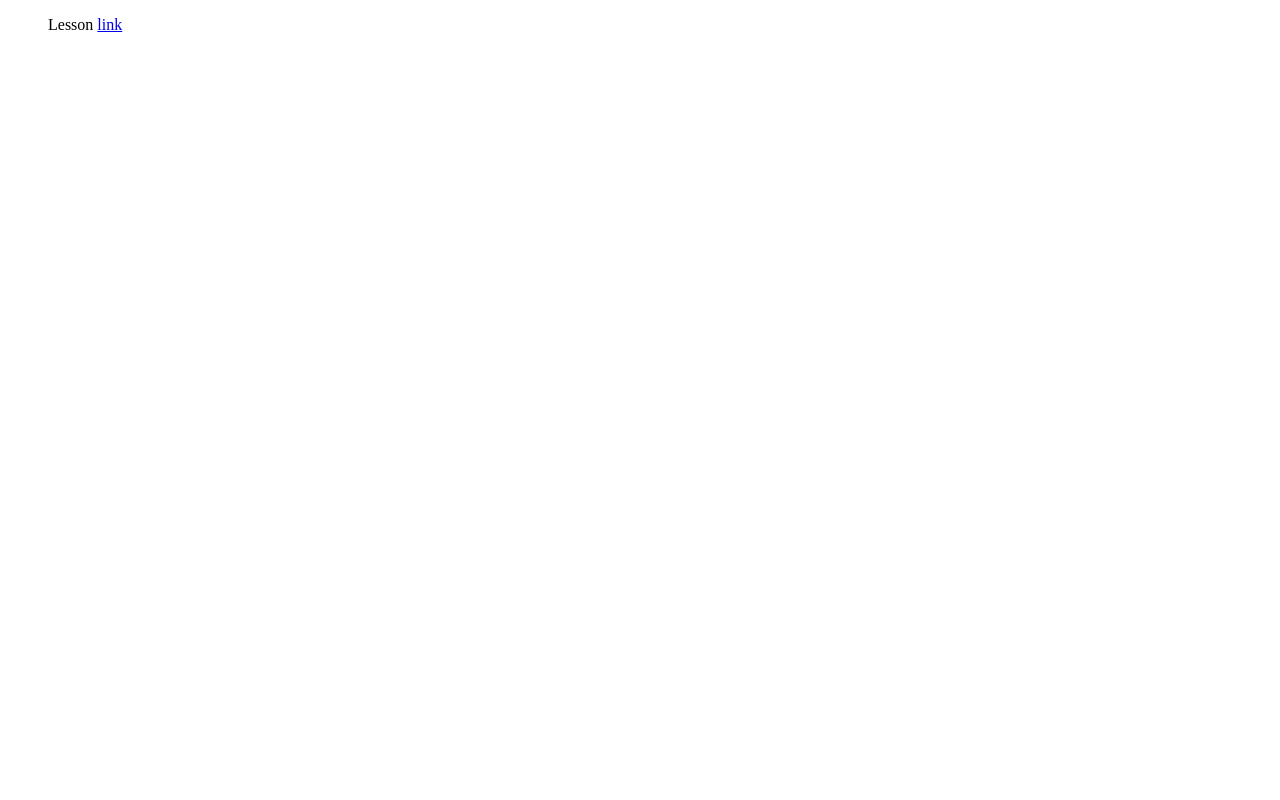
Test: student: shows stored opinion, rates, validates the choice
Click the link "link": (110, 24) [97, 16, 122, 33]
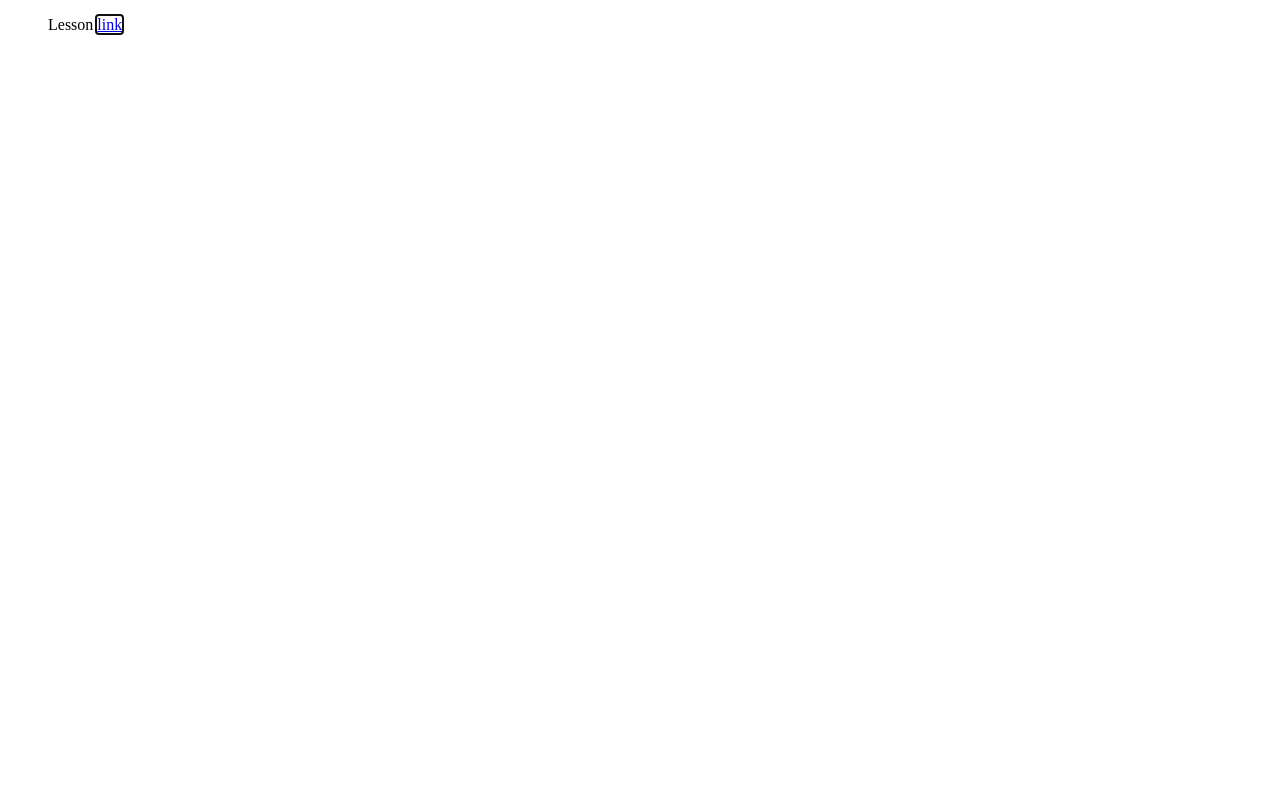
Click the element with id "content_id__5": (640, 25) [48, 16, 1232, 34]
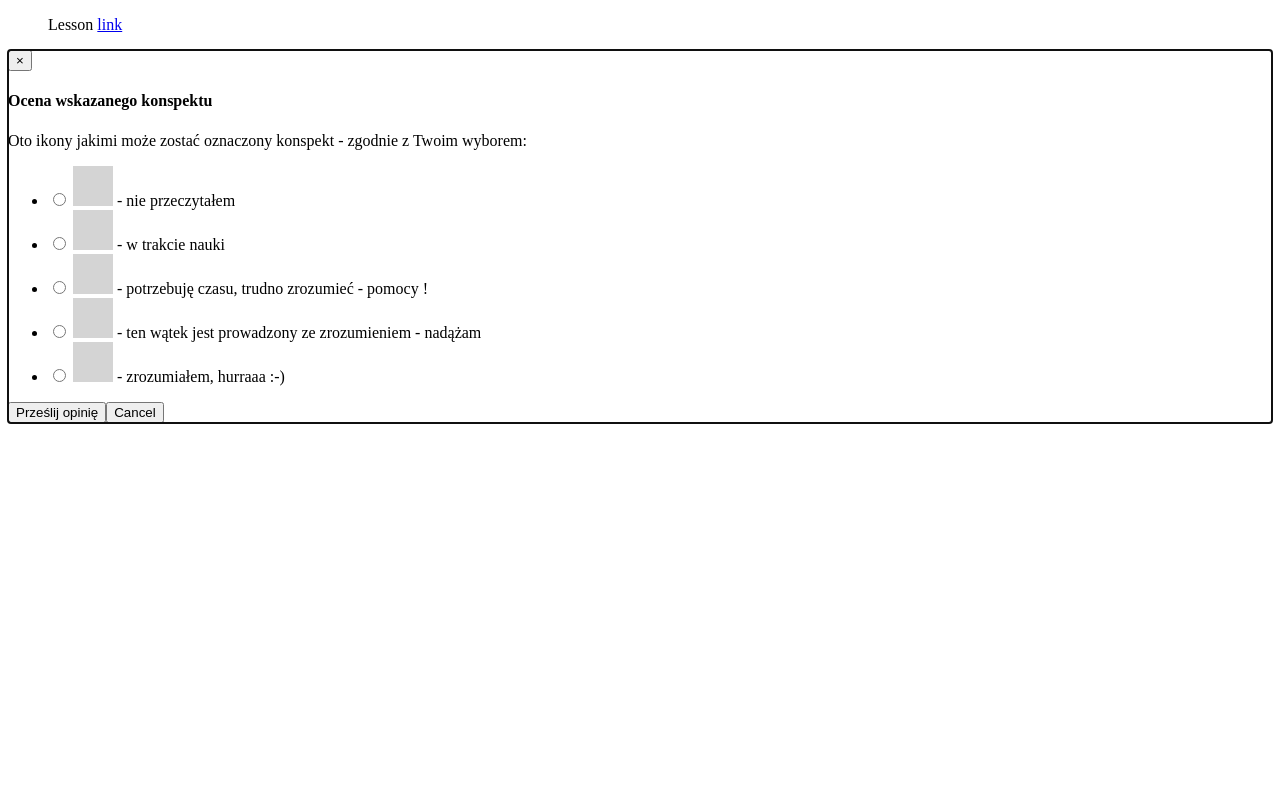
expect the number of radio buttons named "dialog-send-status-select" is 5: met, box [53, 192, 66, 206]; [53, 236, 66, 250]; [53, 280, 66, 294]; [53, 324, 66, 338]; [53, 368, 66, 382]
Click the button "Prześlij opinię": (57, 412) [8, 402, 106, 422]
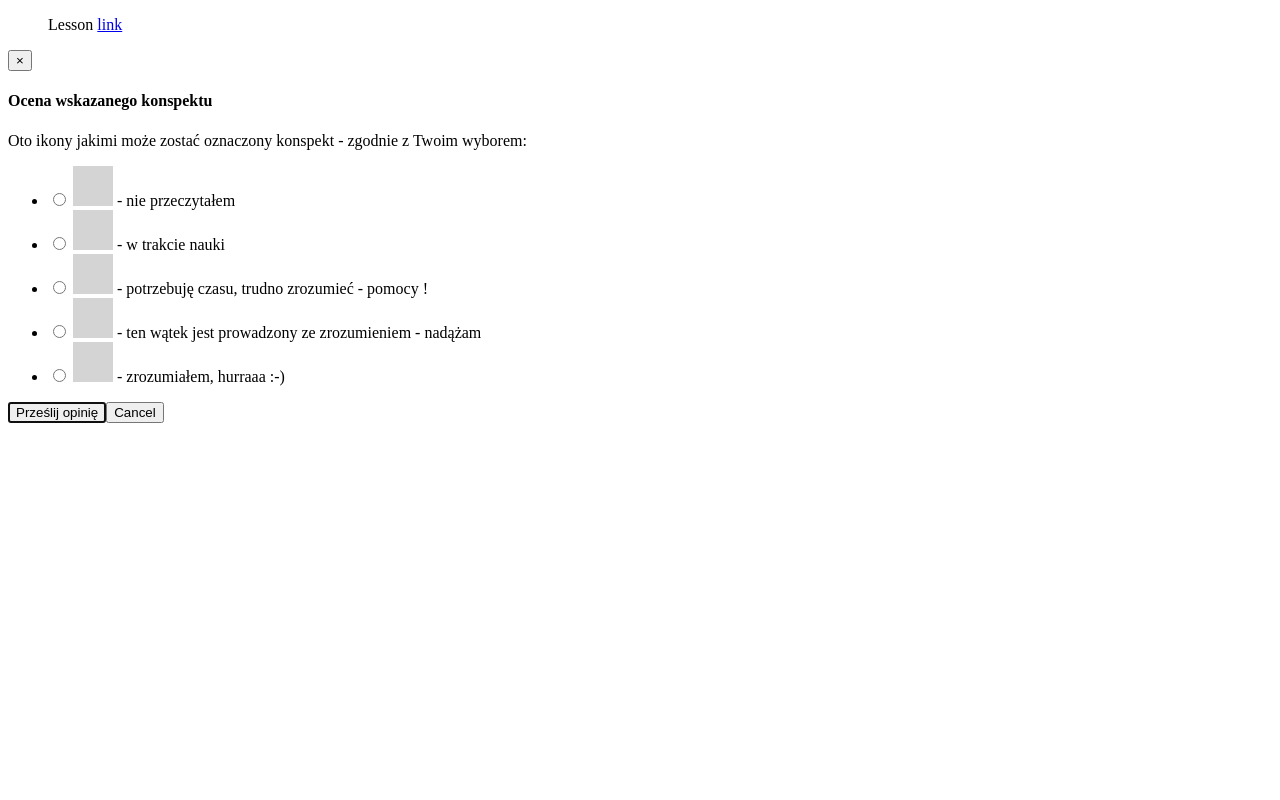
Click the radio button labelled "- ten wątek jest prowadzony ze zrozumieniem - nadążam": (60, 331) [53, 324, 66, 338]
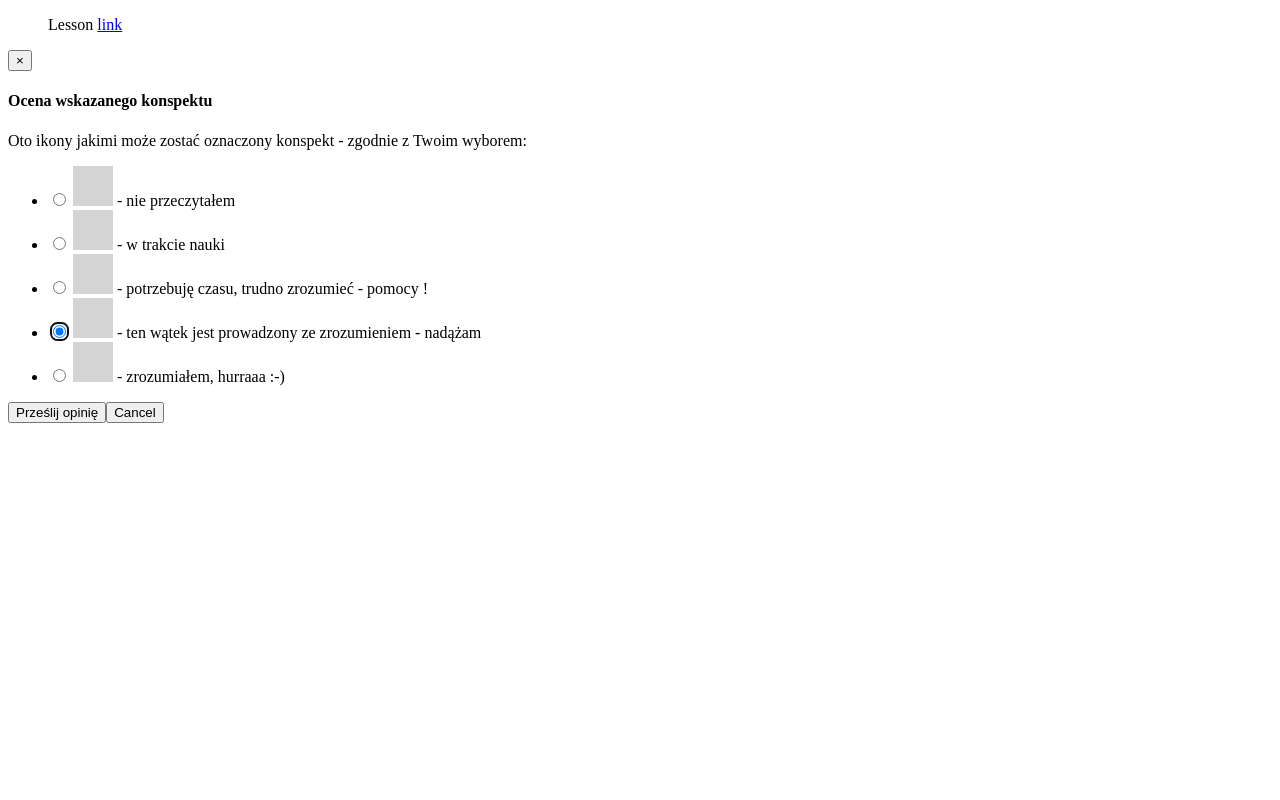
Click the button "Prześlij opinię": (57, 412) [8, 402, 106, 422]
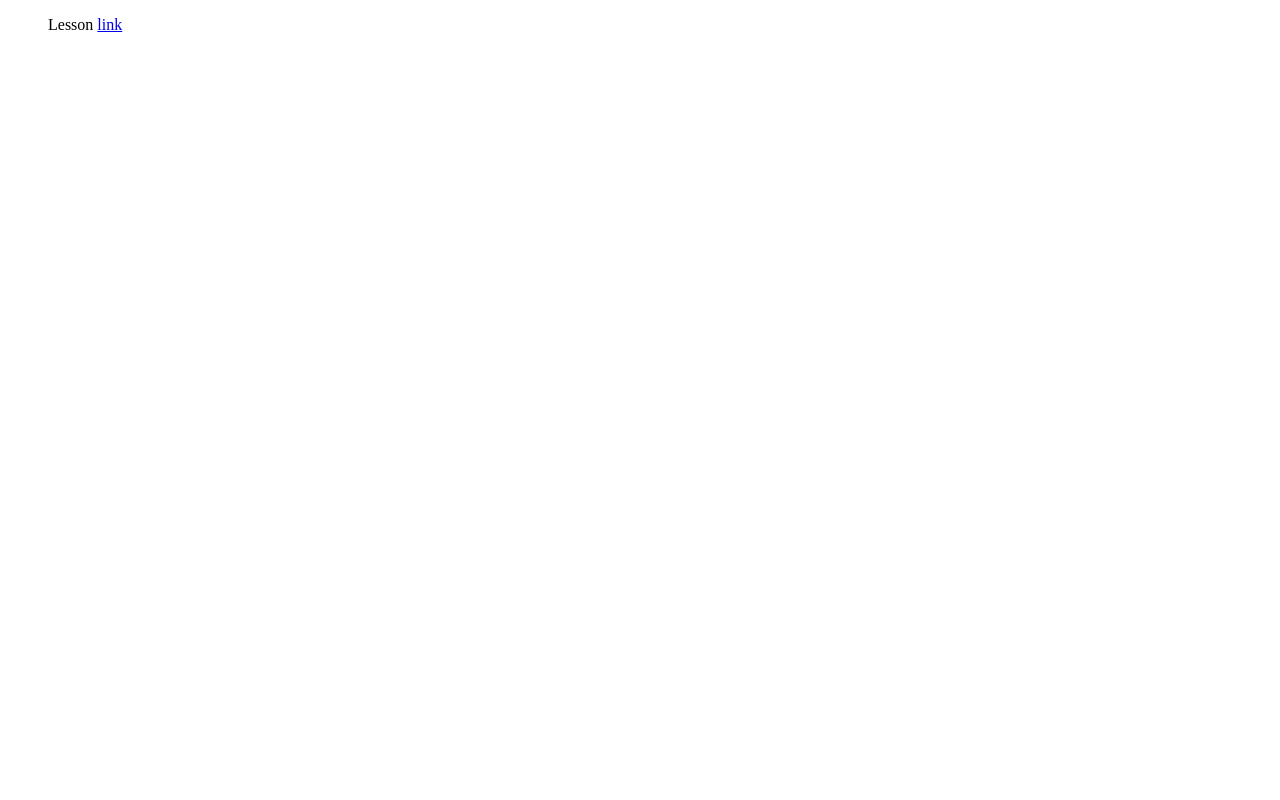
expect the dialog is gone: met
